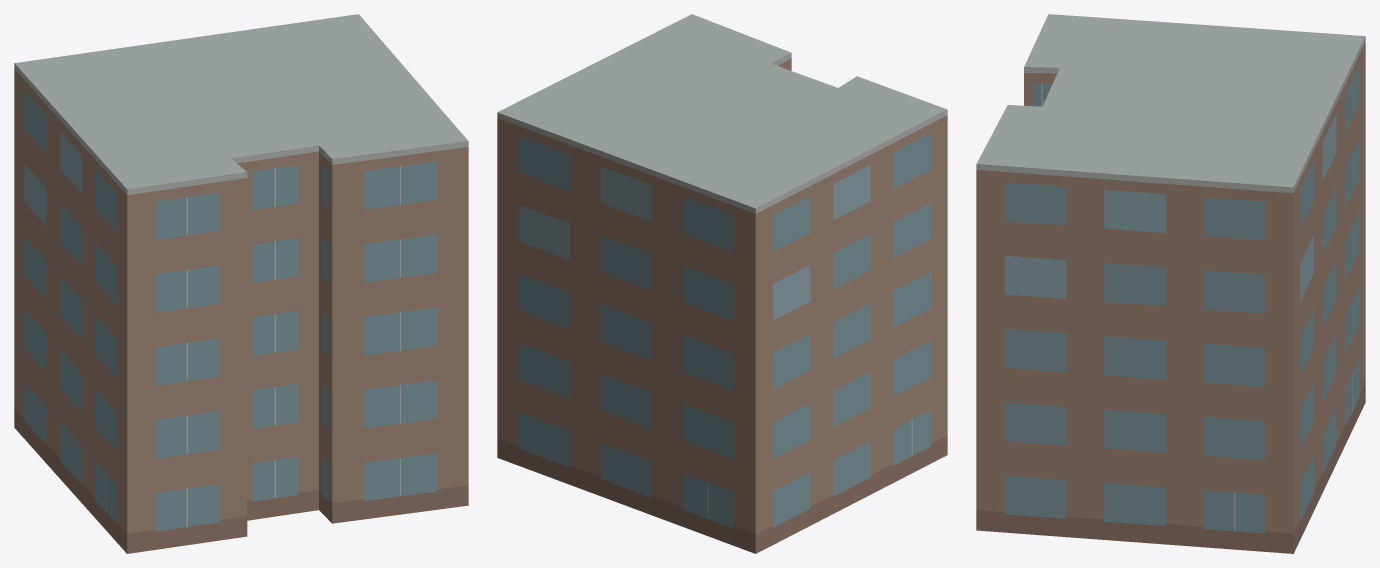
The model's file is survey-upis-32879418.glb.
3 renders of one model, left to right at view 1: azimuth 30°, elevation 25°; view 2: azimuth 150°, elevation 25°; view 3: azimuth 270°, elevation 25°, orthographic. The views are drawn at different scales.
Parts seen in each view (by area): view 1: survey-upis-32879418.tmp; view 2: survey-upis-32879418.tmp; view 3: survey-upis-32879418.tmp.
Boxes of the visible parts, left/top/right/bottom form: survey-upis-32879418.tmp: left=14, top=14, right=468, bottom=553; survey-upis-32879418.tmp: left=497, top=14, right=947, bottom=553; survey-upis-32879418.tmp: left=976, top=14, right=1365, bottom=553.
Size of the model in its own units: 15.49 by 15.25 by 14.68.
